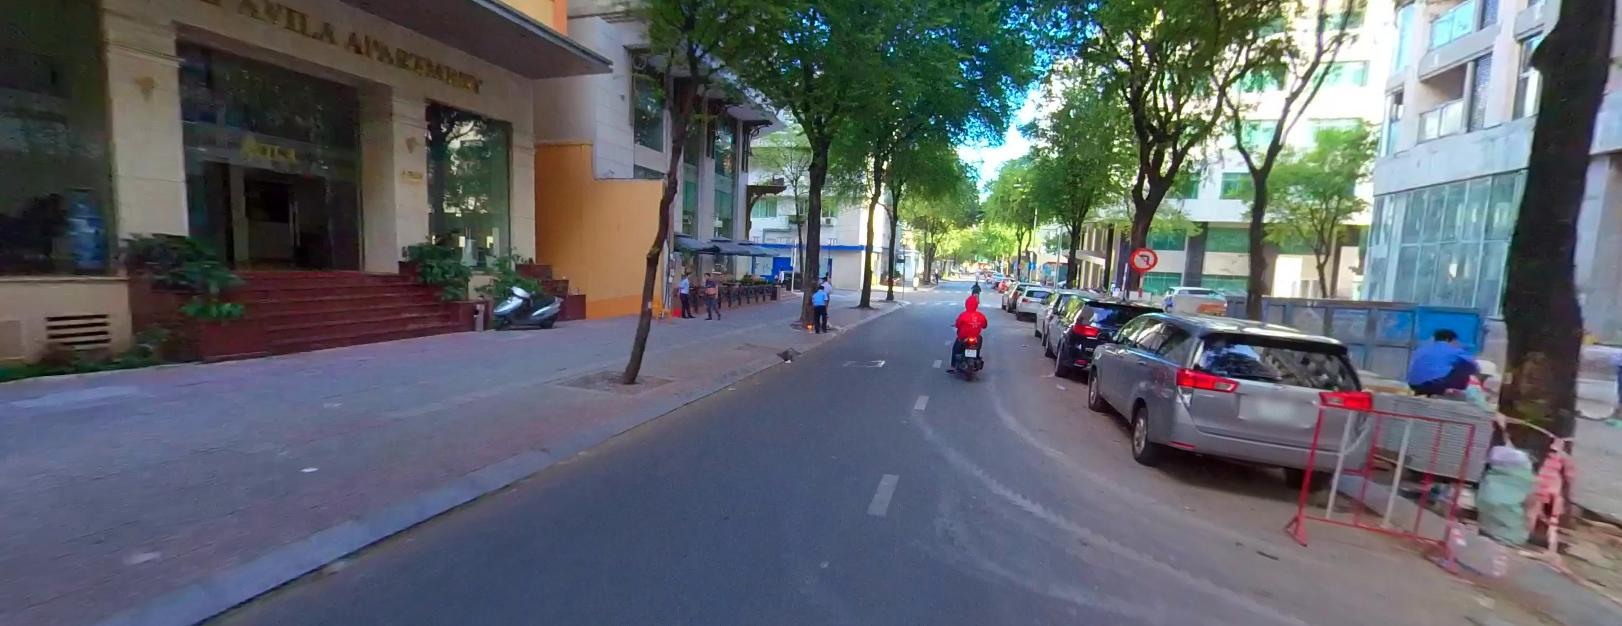Cam re: (1129, 245, 1157, 269)
